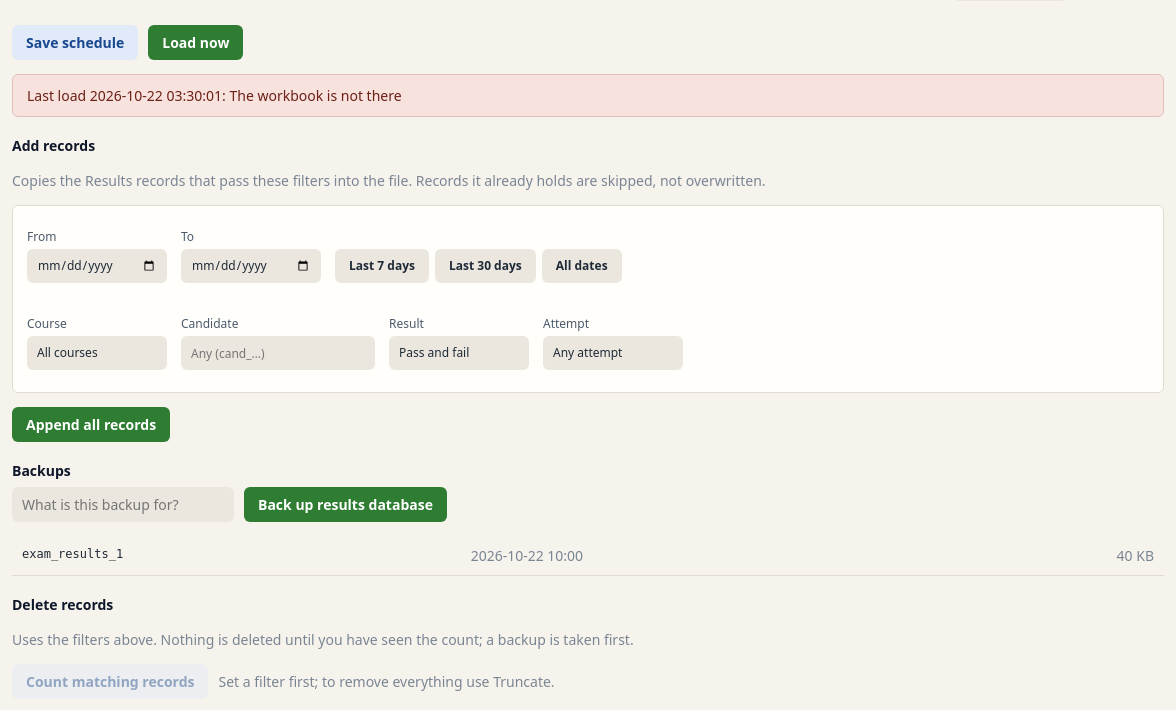
ResultsDbAdmin › shows what the file holds and appends under the filters
The width and height of the screenshot is (1176, 710).
(page scrolled)
Step 1. Select "Passed" in the dropdown labelled "Result" → (459, 353), box [389, 336, 529, 370]
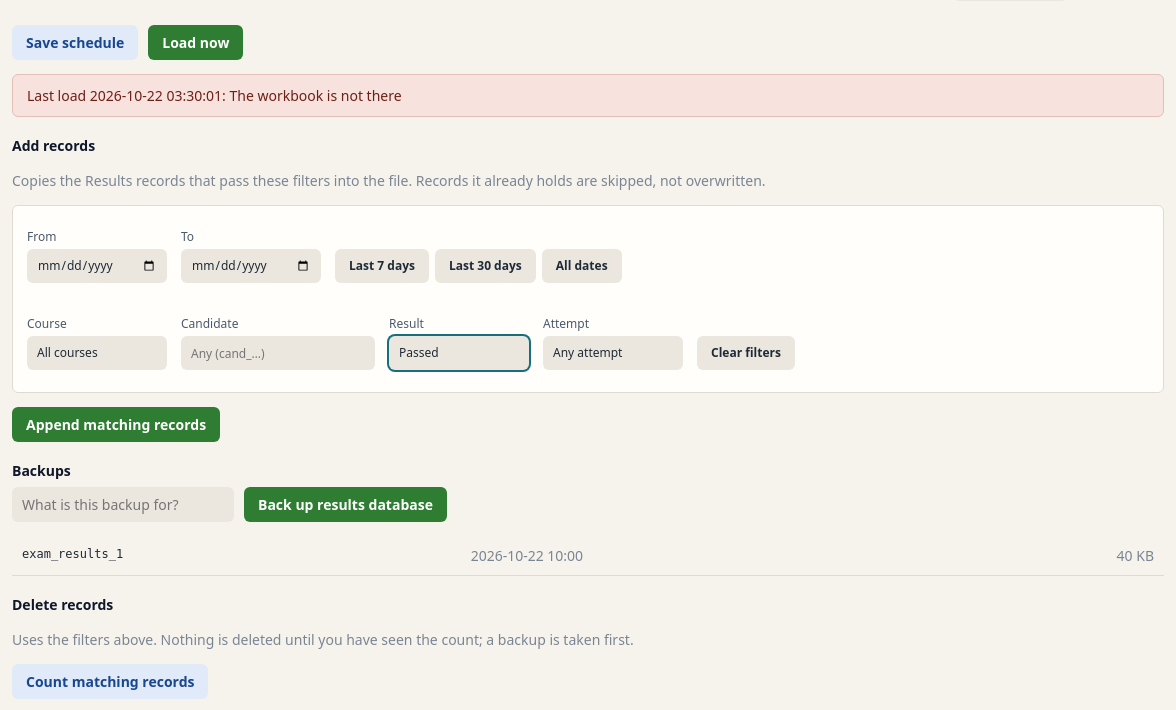
Step 2. Click the button "Append matching records" → click(116, 424), box [12, 407, 220, 442]
(page scrolled)
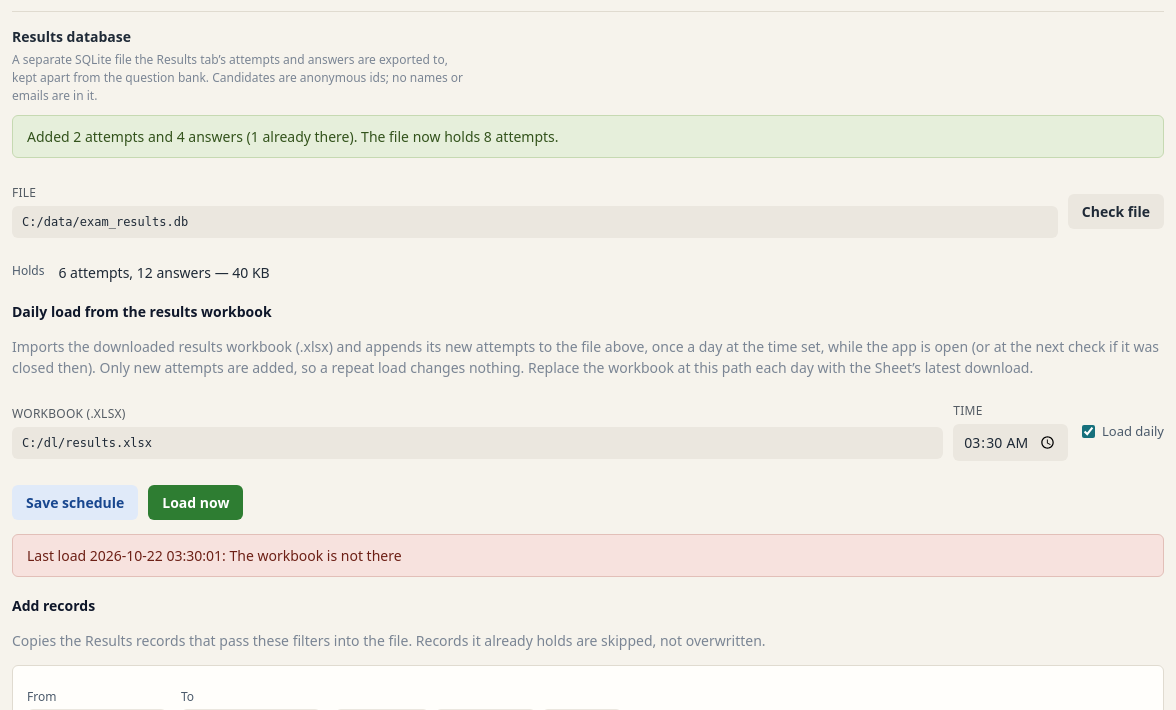
Expected: the text "Added 2 attempts and 4 answers (1 already there)" is shown, [27, 127, 559, 146]
